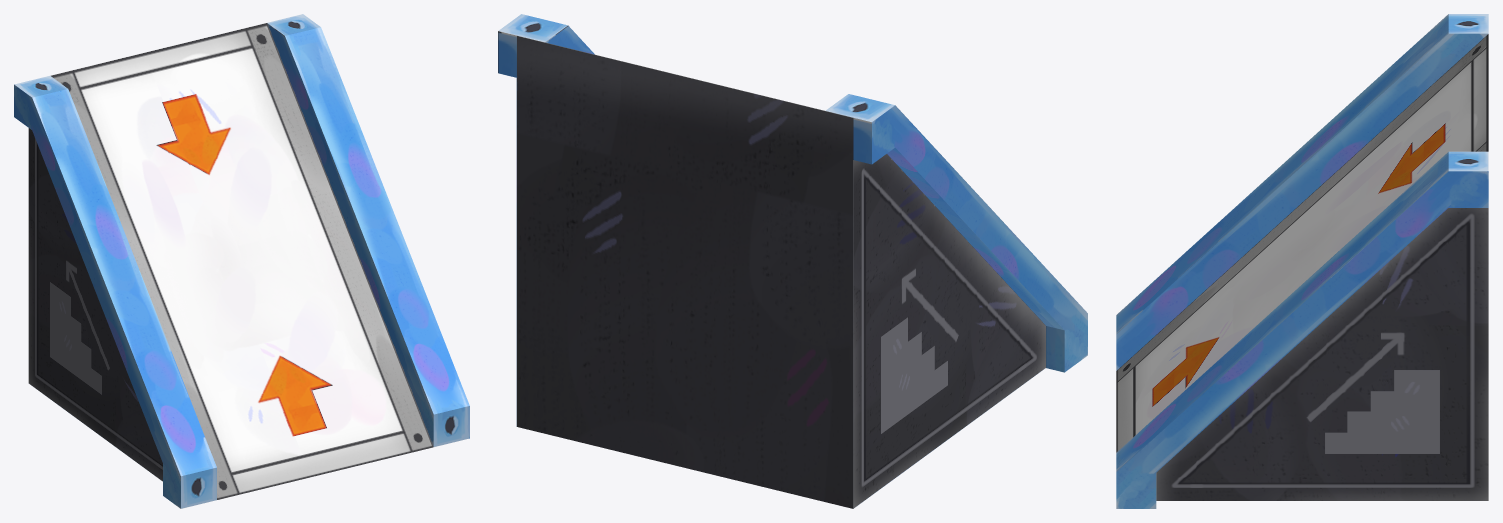
Rendered from Ramp.glb.
3 renders of one model, left to right at view 1: azimuth 30°, elevation 25°; view 2: azimuth 150°, elevation 25°; view 3: azimuth 270°, elevation 25°, orthographic. The views are drawn at different scales.
Parts seen in each view (by area): view 1: Ramp; view 2: Ramp; view 3: Ramp.
Part boxes in pixels (x1,y1,x2,y2): Ramp: (14, 14, 469, 508); Ramp: (498, 14, 1087, 508); Ramp: (1116, 14, 1488, 508).
Size of the model in its own units: 1 by 1 by 1.
1 material, 1 textured.
